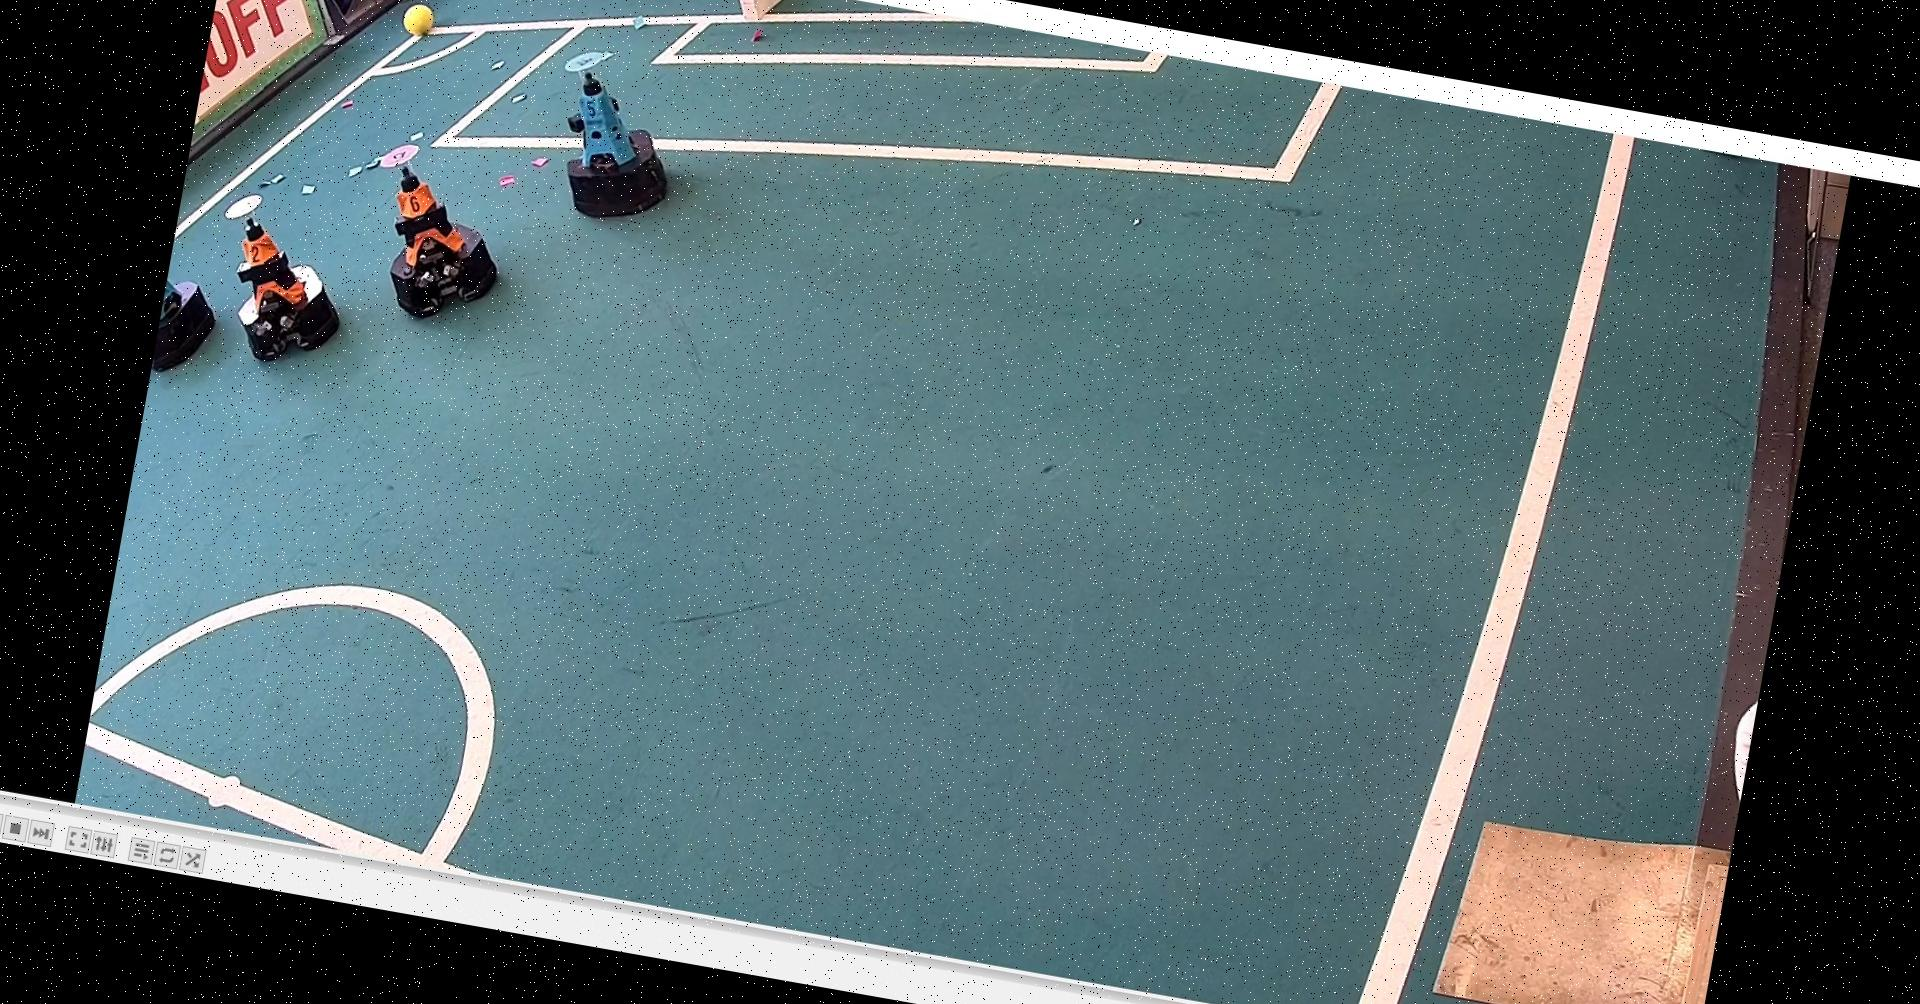Ball: (408, 0, 447, 39)
Team_Blue: (538, 42, 706, 232)
Team_Red: (349, 128, 522, 329), (196, 183, 364, 376)
